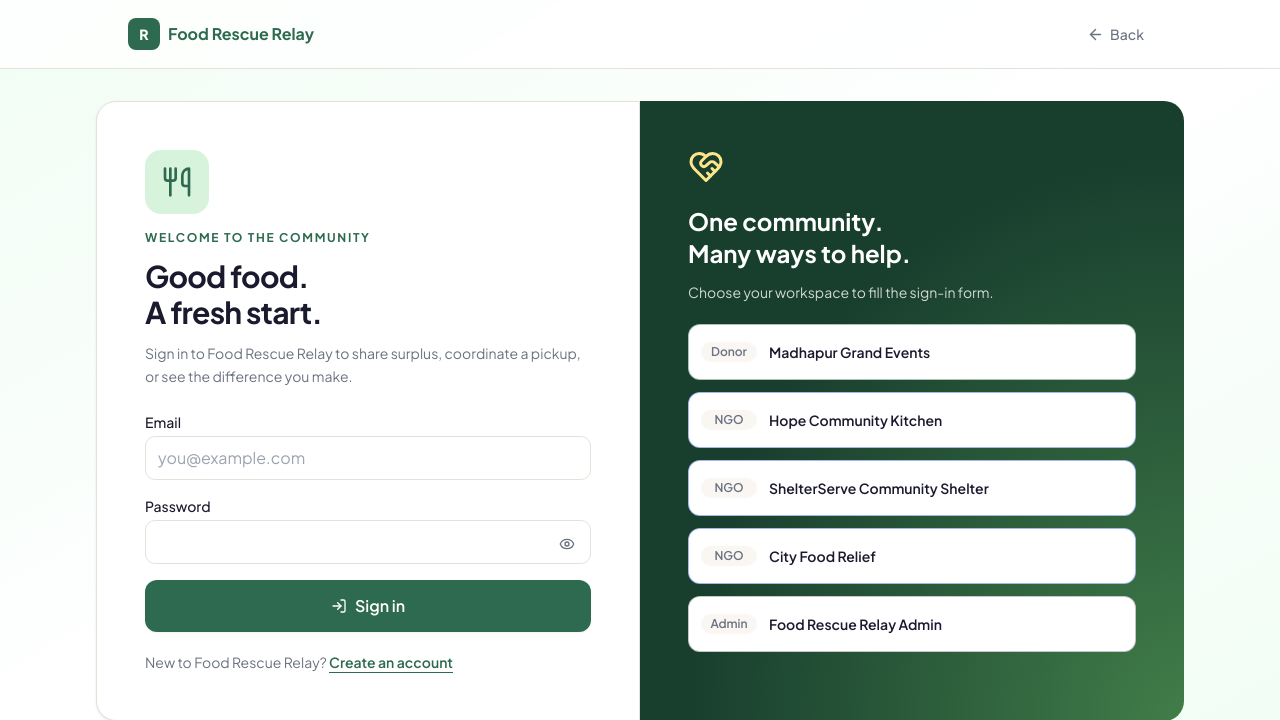
Test: LoginPage › shows an error toast when sign-in is rejected
Type "donor@rescuerelay.demo" into the field labelled "Email". click: (368, 458)
box: [145,436,591,480]
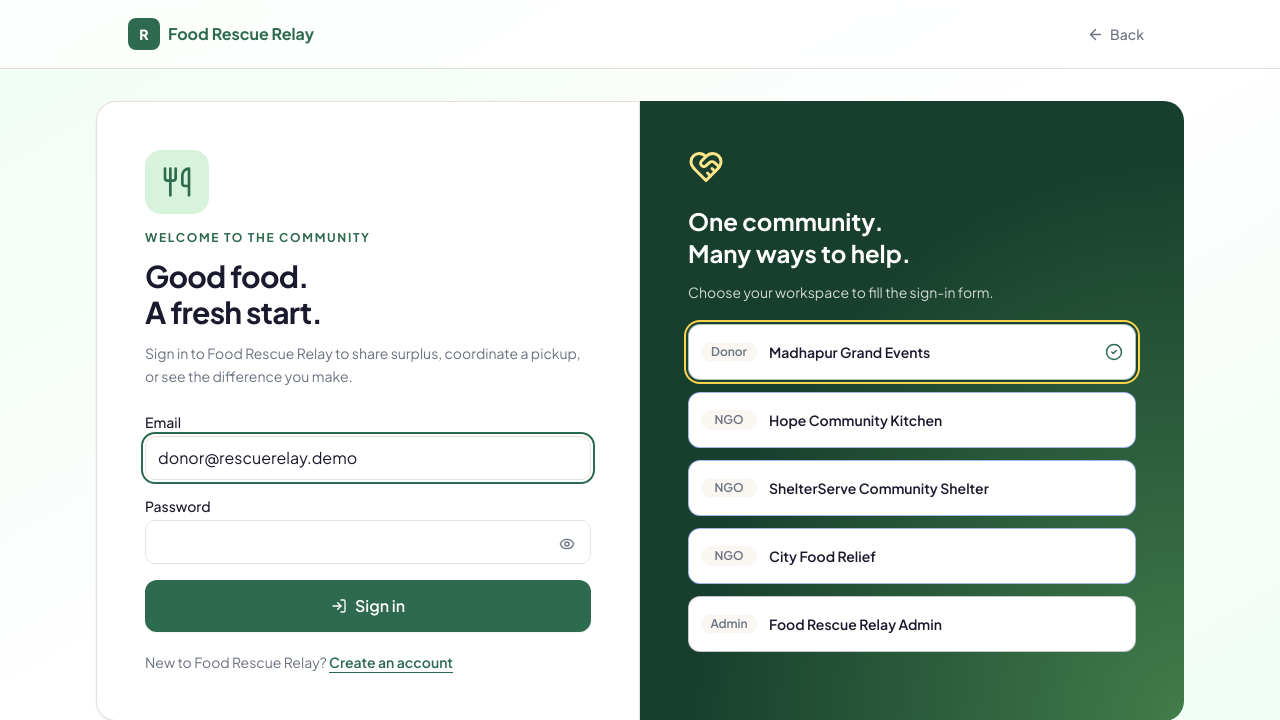
Type "wrong-password" into the password field labelled "Password". click: (368, 542)
box: [145,520,591,564]
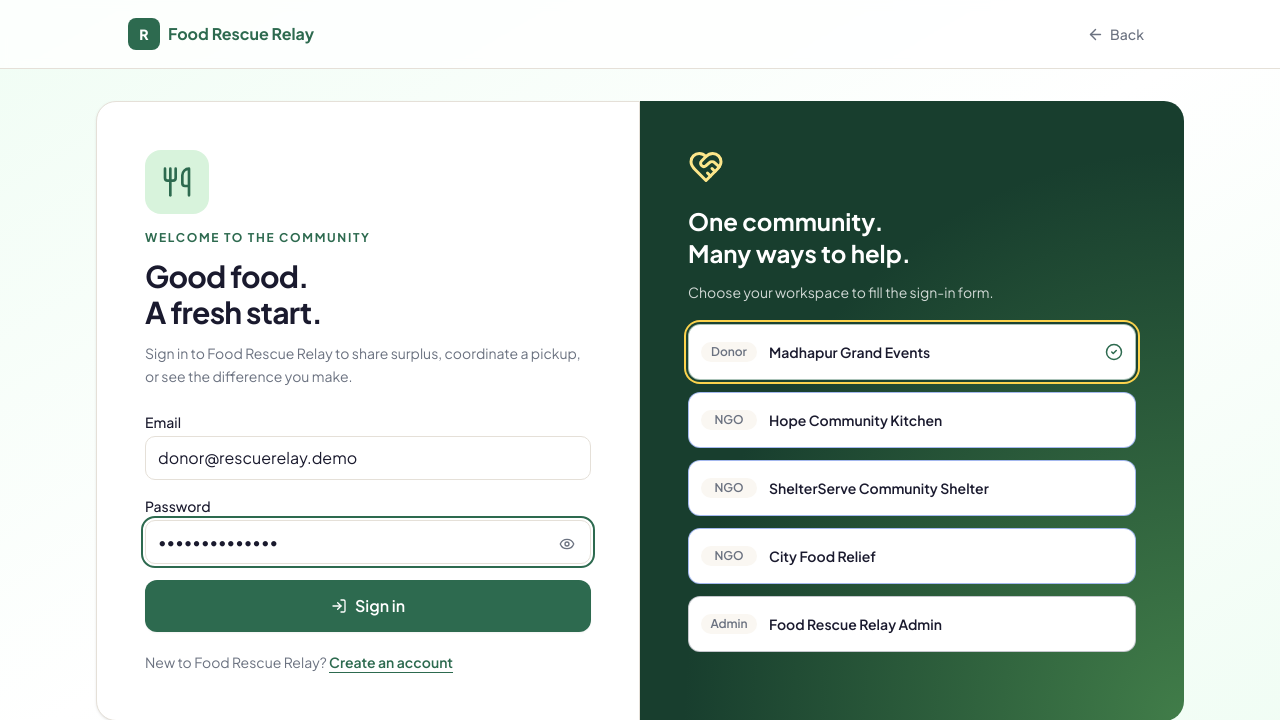
Click the button "Sign in". click: (368, 606)
box: [145,580,591,632]
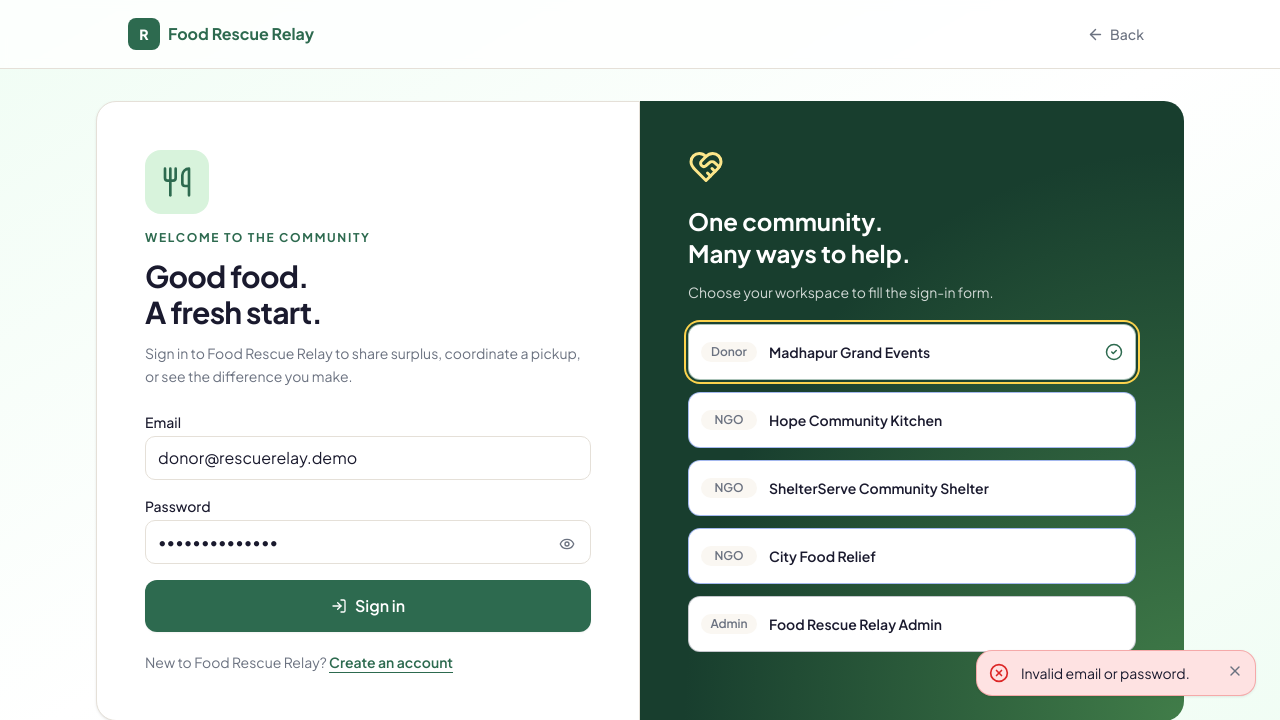
Result: the message reads "Invalid email or password." at [1021,664,1190,682]
